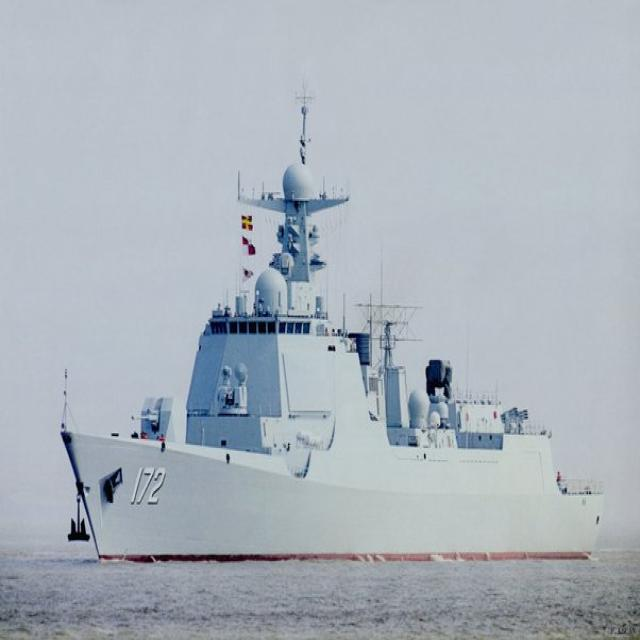Destroyer-Luyang-III-class-052-CHI: (63, 77, 609, 568)
